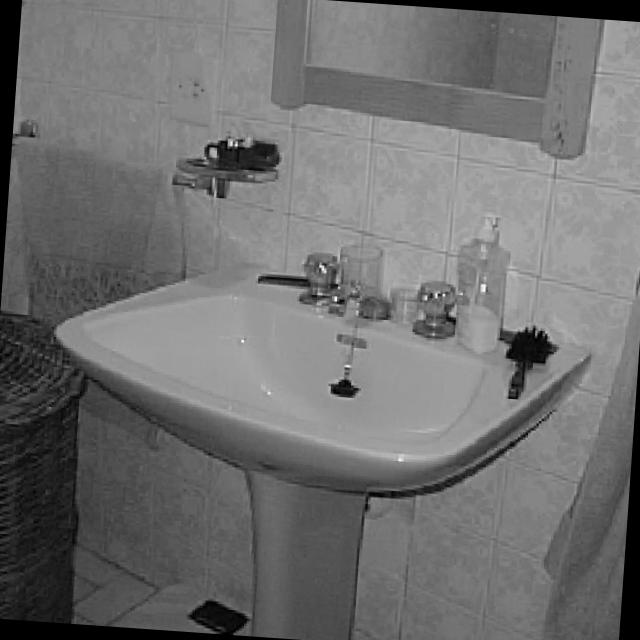floor -X: (0, 503, 268, 635)
hairbrush: (511, 324, 559, 390)
mirror crop: (273, 0, 606, 157)
sink basin: (58, 250, 588, 638)
